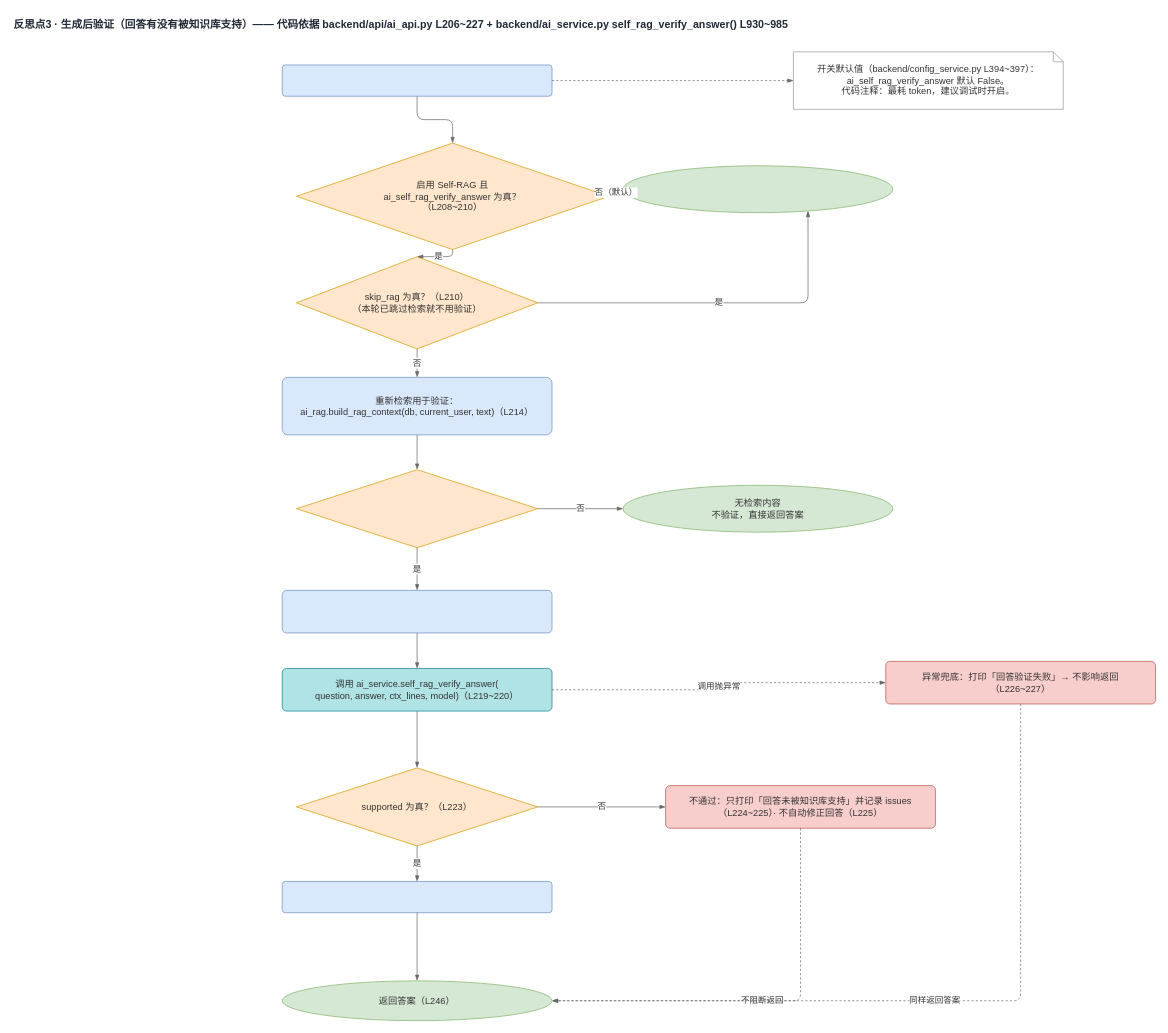
This 1168x1033 diagram has some shape labels left out. The shapes that lost their labels are listed below. From the top down, each one's centre as x and y in pixels, then its label:
the point at 417,80: 大模型生成完成（result 的 ok 为 True · L208）
the point at 757,189: 跳过生成后验证 直接返回答案
the point at 417,508: verify_ctx 非空？（L215）
the point at 417,611: 拆行取片段：只保留非空、且不以「【」开头的行 （L217~218）
the point at 417,897: 验证通过：只累加 verify 的 tokens（L222）
